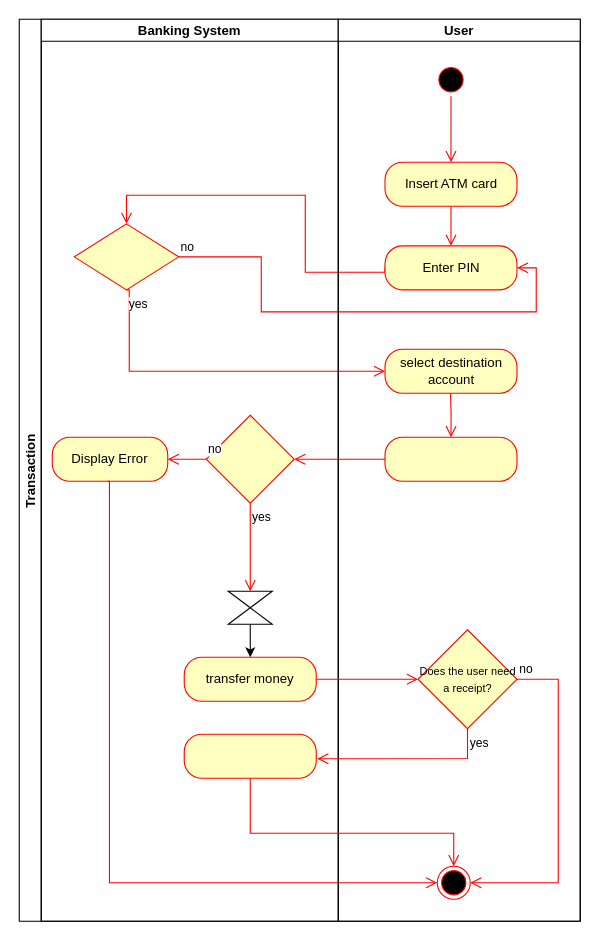
Some shapes in this 600 by 941 pixel diagram are drawn without their labels. Each missing label, with the box of its shape:
Are the sufficient funds?: (205, 414, 294, 503)
Enter desired amount of money: (384, 436, 517, 481)
Is the PIN correct?: (73, 223, 179, 290)
Print Reciept: (183, 733, 316, 778)
